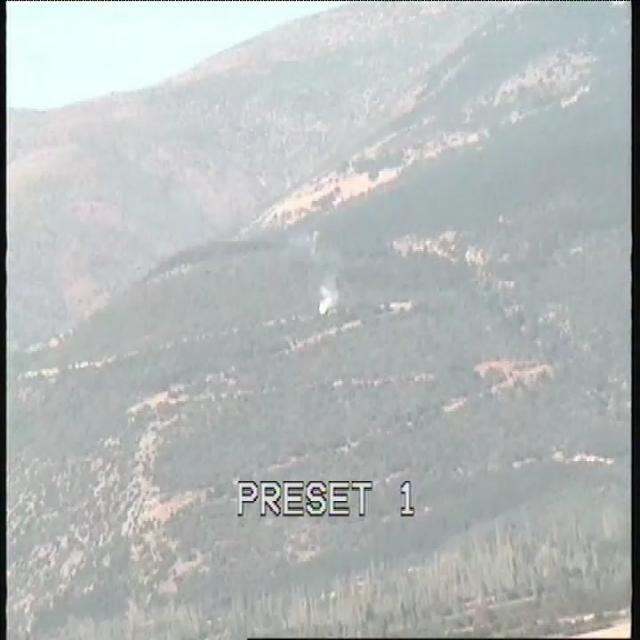smoke: (310, 275, 346, 319)
